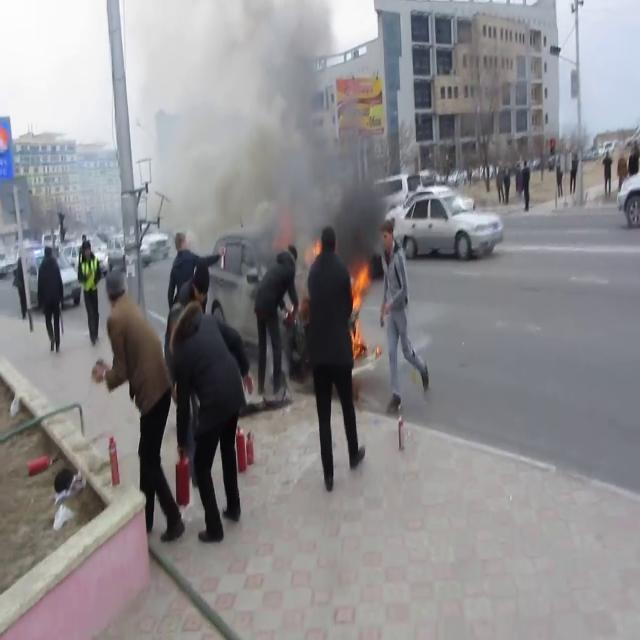Fire: (348, 254, 372, 358)
Smoke: (182, 0, 386, 261)
